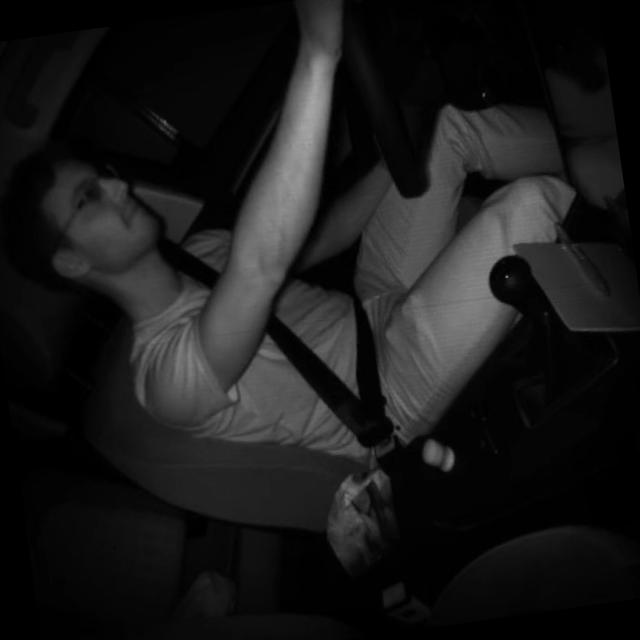pen: (552, 210, 616, 306)
